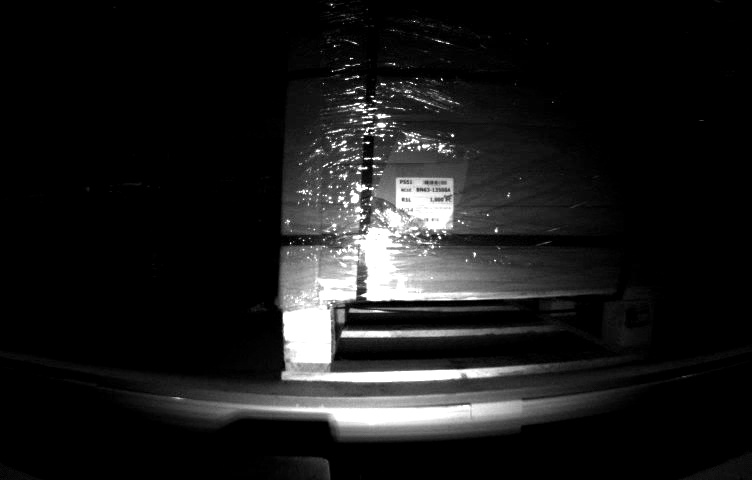True Barcode: (392, 174, 458, 233)
